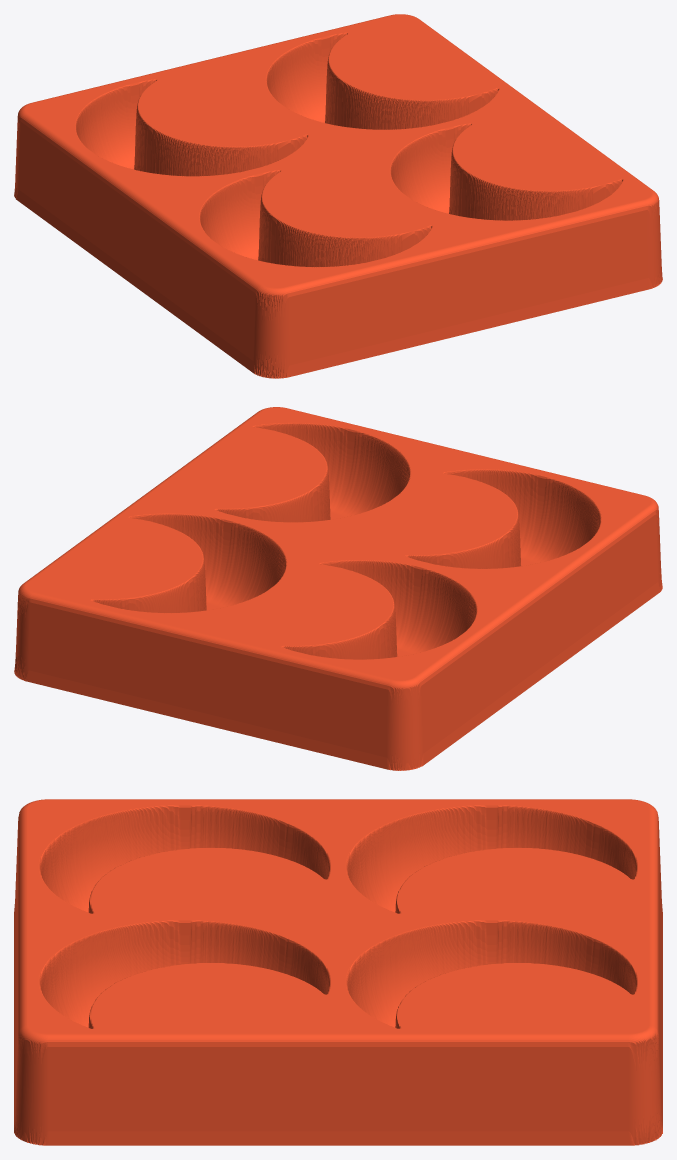
Rendered from mold.glb.
3 renders of one model, top to bottom at view 1: azimuth 30°, elevation 25°; view 2: azimuth 150°, elevation 25°; view 3: azimuth 270°, elevation 25°, orthographic. The views are drawn at different scales.
Visible parts, largest first — view 1: geometry_0; view 2: geometry_0; view 3: geometry_0.
Boxes of the visible parts, x1=… form: geometry_0: x1=14, y1=14, x2=662, y2=378; geometry_0: x1=14, y1=407, x2=662, y2=770; geometry_0: x1=14, y1=799, x2=662, y2=1145.
Size of the model in its own units: 0.1539 by 0.031 by 0.1721.
